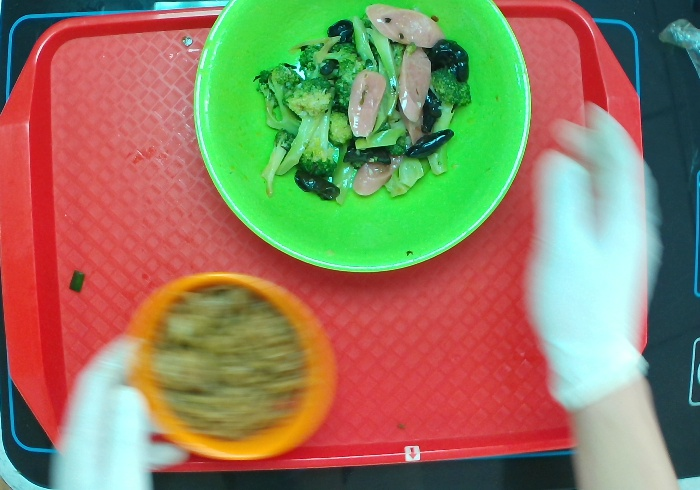YKMZ-Ju_Se_Yuan_Wan: (124, 265, 342, 469)
YKMZ-Lv_Se_Tang_Wan: (189, 1, 534, 283)
